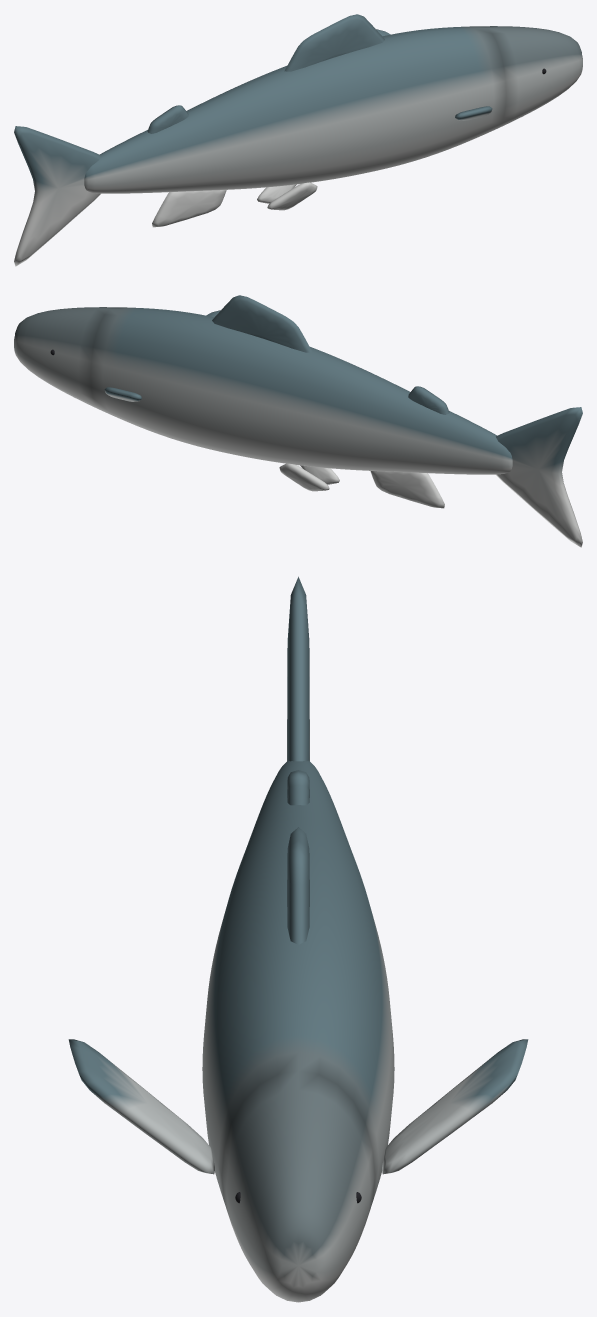
The model's file is chinook.glb.
3 views of the same model, one above another, from view 1: azimuth 30°, elevation 25°; view 2: azimuth 150°, elevation 25°; view 3: azimuth 270°, elevation 25° (orthographic). The views are drawn at different scales.
Visible parts, largest first — view 1: chinook; view 2: chinook; view 3: chinook.
Part boxes in pixels (left/top/right/bottom): chinook: left=14, top=14, right=582, bottom=266; chinook: left=14, top=295, right=582, bottom=547; chinook: left=68, top=576, right=528, bottom=1302.
Size of the model in its own units: 1.02 by 0.3003 by 0.3599.
